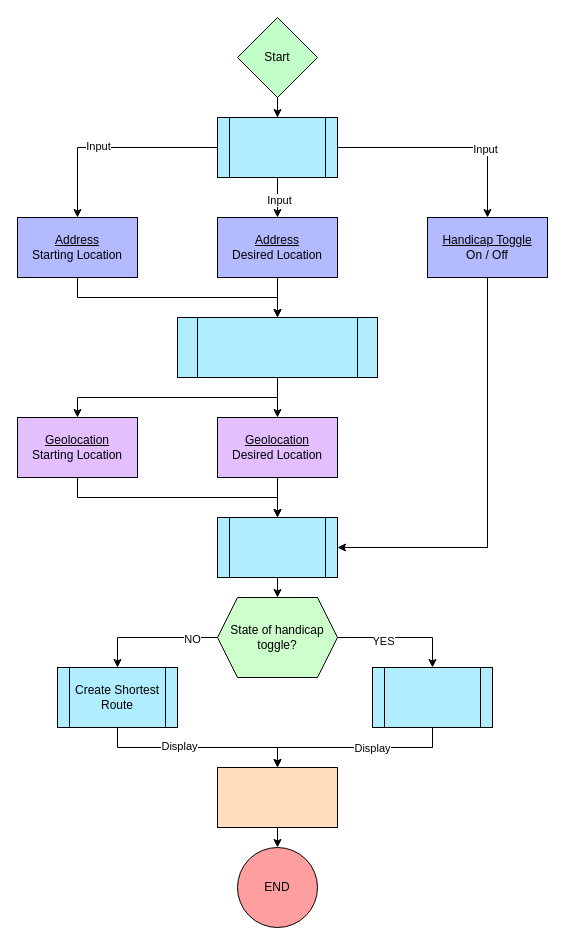
This 565x945 diagram has some shape labels left out. Here are the shapes that lost their labels. From the top down, the centre of each, then its label:
At (277,147): "User Inputs".
At (277,347): "Google Geocode API Address -> Geo Coordinates".
At (277,547): "Query Data".
At (432,697): "Create Shortest Accessibility Route".
At (277,797): "Route & Entrances Information".
